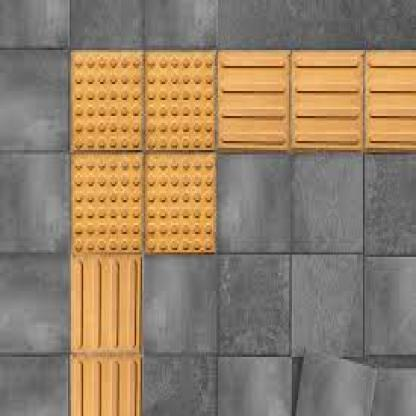podotacti: (71, 50, 416, 416)
